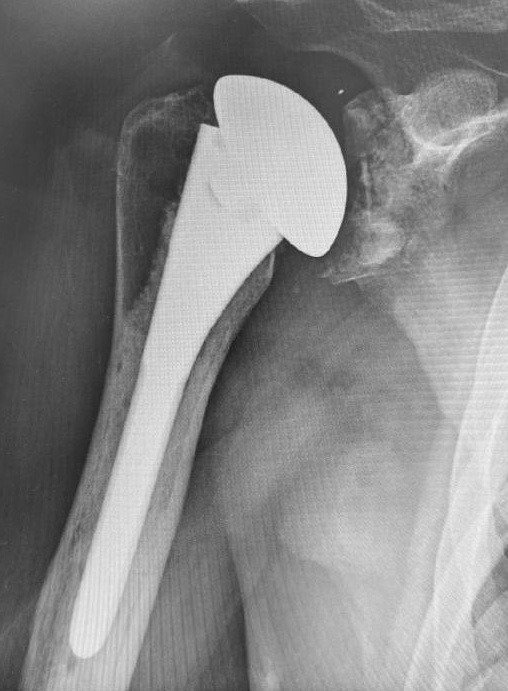Shoulder - Anotomical - Stryker: (182, 65, 361, 266)
